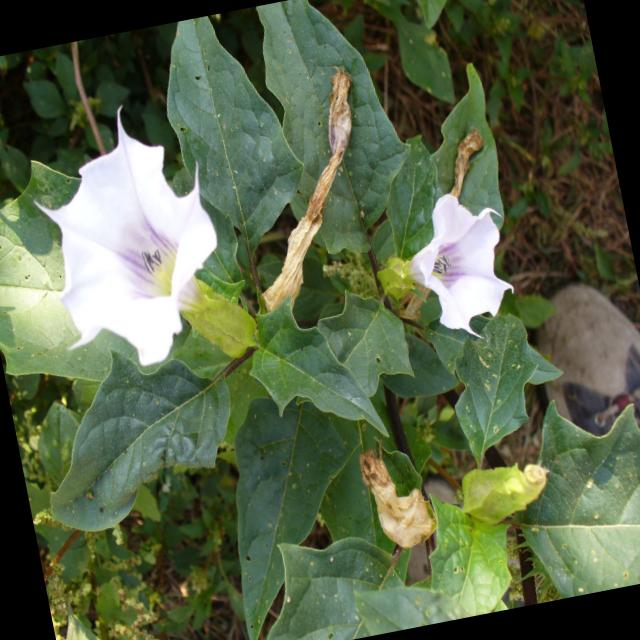Poisonous-Datura_Stramonium: (3, 91, 288, 408), (209, 383, 412, 640), (153, 2, 324, 264), (365, 180, 532, 381)
